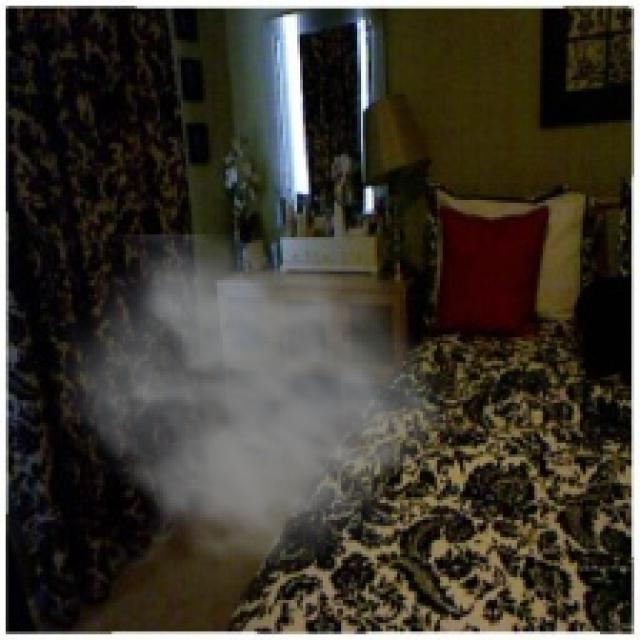Smoke: (46, 234, 460, 603)
